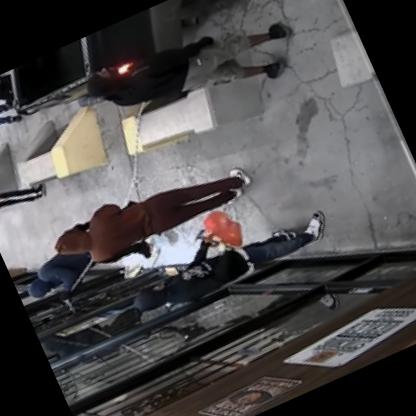Human Body: (76, 0, 308, 153), (118, 182, 337, 328), (46, 141, 256, 278), (18, 213, 159, 310)
